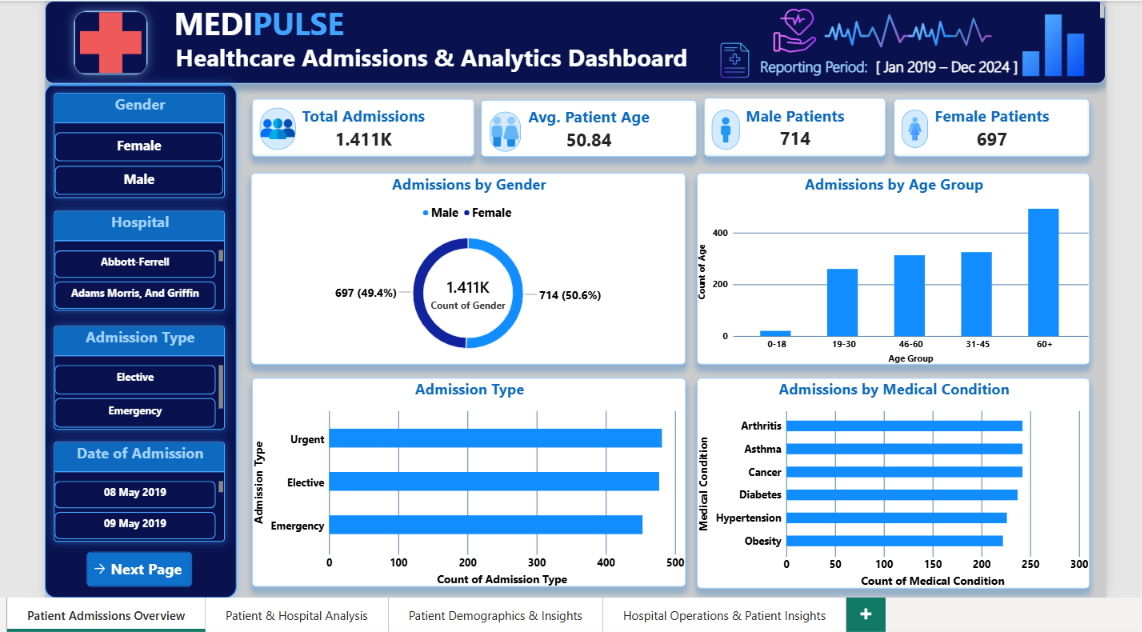

What the dashboard file says about the page in this screenshot:
{"tool":"powerbi","page":{"name":"Patient Admissions Overview","canvas":[1920,1080],"ordinal":0},"visuals":[{"type":"textbox","box":[0,0,1920,150.2],"z":0},{"type":"image","box":[52.5,18.1,133.9,115.8],"z":1000},{"type":"image","box":[1759,21.7,132.1,117.6],"z":2000},{"type":"image","box":[1207,76,83.2,63.3],"z":3000},{"type":"cardVisual","fields":{"Data":["CountNonNull(Clean_Dataset_Healthcare_Patien.Name)"]},"box":[374.6,177.3,403.6,105],"z":4000},{"type":"image","box":[389.1,193.6,65.1,76],"z":5000},{"type":"cardVisual","fields":{"Data":["Avg(Clean_Dataset_Healthcare_Patien.Age)"]},"box":[789,179.2,390.9,103.2],"z":6000},{"type":"cardVisual","fields":{"Data":["CountNonNull(Clean_Dataset_Healthcare_Patien.Gender)"]},"box":[1192.6,175.5,329.4,106.8],"z":7000},{"type":"image","box":[1207,197.3,50.7,72.4],"z":8000},{"type":"image","box":[805.3,200.9,56.1,72.4],"z":9000},{"type":"cardVisual","fields":{"Data":["CountNonNull(Clean_Dataset_Healthcare_Patien.Gender)"]},"box":[1536.4,177.3,354.7,105],"z":10000},{"type":"image","box":[1550.9,197.3,47.1,68.8],"z":11000},{"type":"donutChart","title":"Admissions by Gender","fields":{"Category":["Clean_Dataset_Healthcare_Patien.Gender"],"Y":["CountNonNull(Clean_Dataset_Healthcare_Patien.Gender)"]},"box":[372.8,311.3,787.2,347.5],"z":12000},{"type":"clusteredColumnChart","title":"Admissions by Age Group","fields":{"Category":["Clean_Dataset_Healthcare_Patien.Age Group"],"Y":["CountNonNull(Clean_Dataset_Healthcare_Patien.Age)"]},"box":[1179.9,311.3,711.2,347.5],"z":13000},{"type":"clusteredBarChart","title":"Admissions by Medical Condition","fields":{"Category":["Clean_Dataset_Healthcare_Patien.Medical Condition"],"Y":["CountNonNull(Clean_Dataset_Healthcare_Patien.Medical Condition)"]},"box":[1179.9,682.2,711.2,381.8],"z":14000},{"type":"clusteredBarChart","title":"Admission Type","fields":{"Category":["Clean_Dataset_Healthcare_Patien.Admission Type"],"Y":["CountNonNull(Clean_Dataset_Healthcare_Patien.Admission Type)"]},"box":[374.6,682.2,785.4,378.2],"z":15000},{"type":"textbox","box":[0,150.2,347.5,930.2],"z":16000},{"type":"advancedSlicerVisual","title":"Gender","fields":{"Values":["Clean_Dataset_Healthcare_Patien.Gender"]},"box":[16.3,166.5,309.5,190],"z":17000},{"type":"advancedSlicerVisual","fields":{"Values":["Clean_Dataset_Healthcare_Patien.Hospital"]},"box":[16.3,380,309.5,181],"z":18000},{"type":"advancedSlicerVisual","fields":{"Values":["Clean_Dataset_Healthcare_Patien.Admission Type"]},"box":[16.3,588.1,309.5,188.2],"z":19000},{"type":"advancedSlicerVisual","fields":{"Values":["Clean_Dataset_Healthcare_Patien.Date of Admission"]},"box":[16.3,798.1,309.5,181],"z":20000},{"type":"actionButton","title":"Nex Page","box":[76,997.1,190,63.3],"z":21000},{"type":"image","box":[1312,0,90.5,108.6],"z":21001},{"type":"image","box":[1402.5,18.1,94.1,81.4],"z":21002},{"type":"image","box":[1467.6,9,110.4,90.5],"z":21003},{"type":"image","box":[1550.9,18.1,101.3,81.4],"z":21004},{"type":"image","box":[1637.7,18.1,76,76],"z":21005}]}

Visuals, with their boxes on the page's 1920x1080 design canvas (x1, y1, x2, y2). These are canvas units, not pixel positions in the 1142x632 screenshot, which may show the page scaled, cropped or inside an application window:
textbox: select_region(0, 0, 1920, 150)
image: select_region(52, 18, 186, 134)
image: select_region(1759, 22, 1891, 139)
image: select_region(1207, 76, 1290, 139)
cardVisual - CountNonNull(Clean_Dataset_Healthcare_Patien.Name): select_region(375, 177, 778, 282)
image: select_region(389, 194, 454, 270)
cardVisual - Avg(Clean_Dataset_Healthcare_Patien.Age): select_region(789, 179, 1180, 282)
cardVisual - CountNonNull(Clean_Dataset_Healthcare_Patien.Gender): select_region(1193, 176, 1522, 282)
image: select_region(1207, 197, 1258, 270)
image: select_region(805, 201, 861, 273)
cardVisual - CountNonNull(Clean_Dataset_Healthcare_Patien.Gender): select_region(1536, 177, 1891, 282)
image: select_region(1551, 197, 1598, 266)
"Admissions by Gender" donutChart: select_region(373, 311, 1160, 659)
"Admissions by Age Group" clusteredColumnChart: select_region(1180, 311, 1891, 659)
"Admissions by Medical Condition" clusteredBarChart: select_region(1180, 682, 1891, 1064)
"Admission Type" clusteredBarChart: select_region(375, 682, 1160, 1060)
textbox: select_region(0, 150, 348, 1080)
"Gender" advancedSlicerVisual: select_region(16, 166, 326, 356)
advancedSlicerVisual - Clean_Dataset_Healthcare_Patien.Hospital: select_region(16, 380, 326, 561)
advancedSlicerVisual - Clean_Dataset_Healthcare_Patien.Admission Type: select_region(16, 588, 326, 776)
advancedSlicerVisual - Clean_Dataset_Healthcare_Patien.Date of Admission: select_region(16, 798, 326, 979)
"Nex Page" actionButton: select_region(76, 997, 266, 1060)
image: select_region(1312, 0, 1402, 109)
image: select_region(1402, 18, 1497, 100)
image: select_region(1468, 9, 1578, 100)
image: select_region(1551, 18, 1652, 100)
image: select_region(1638, 18, 1714, 94)
